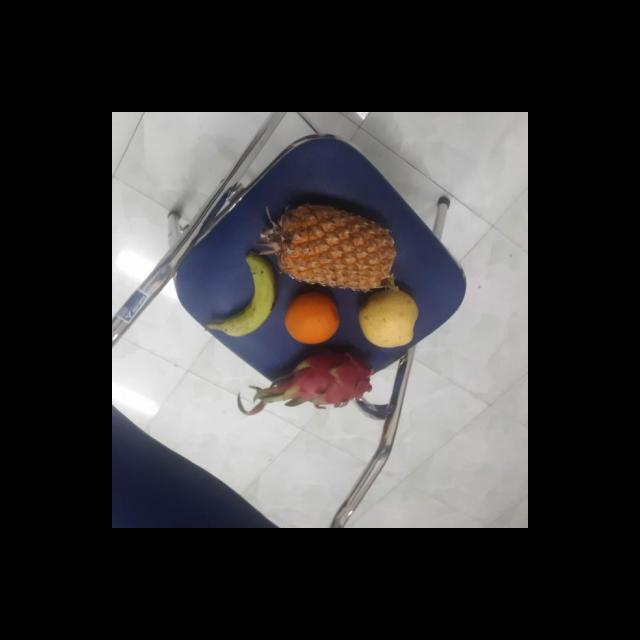banana: (223, 252, 276, 342)
orange: (282, 288, 341, 346)
pear: (358, 285, 419, 350)
pineapple: (276, 205, 398, 291)
pitaya: (274, 346, 372, 408)
